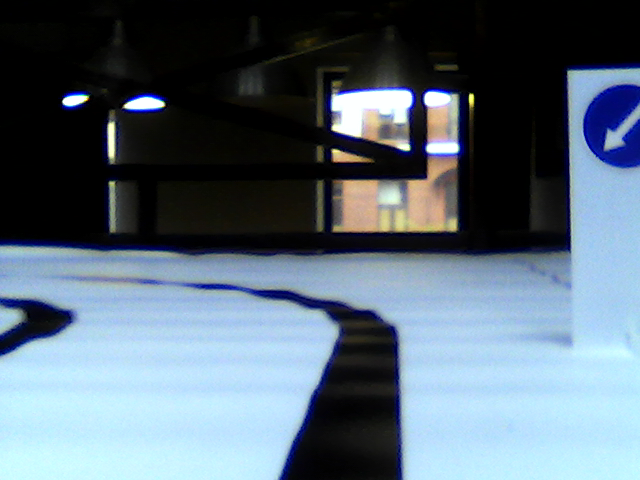prep: (576, 82, 640, 173)
